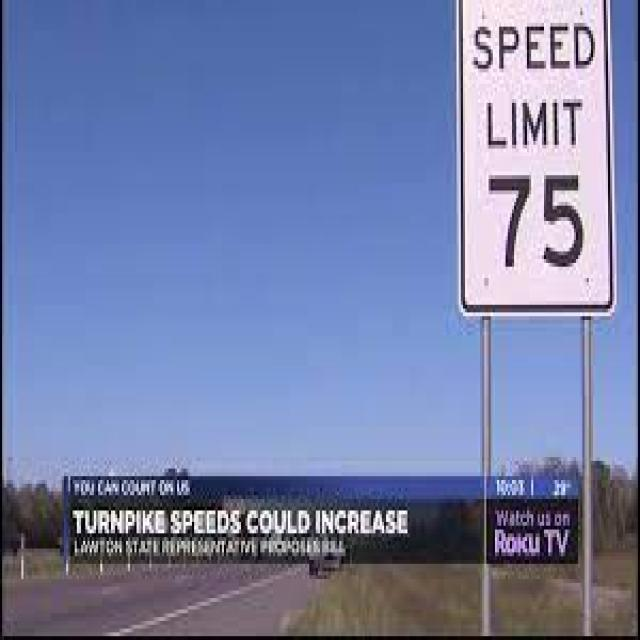speedLimit75: (455, 10, 607, 322)
